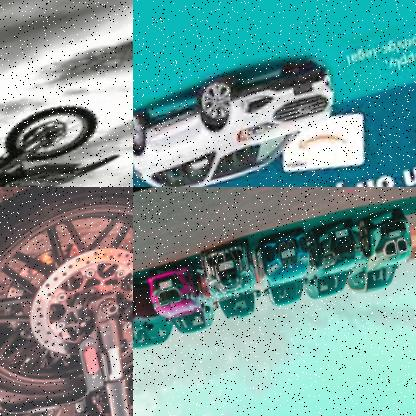bike: (0, 187, 133, 416), (0, 109, 126, 187)
car: (133, 52, 351, 187), (142, 250, 216, 349), (195, 240, 263, 328), (354, 213, 416, 302), (301, 222, 365, 306), (254, 237, 315, 315), (133, 270, 168, 366)
